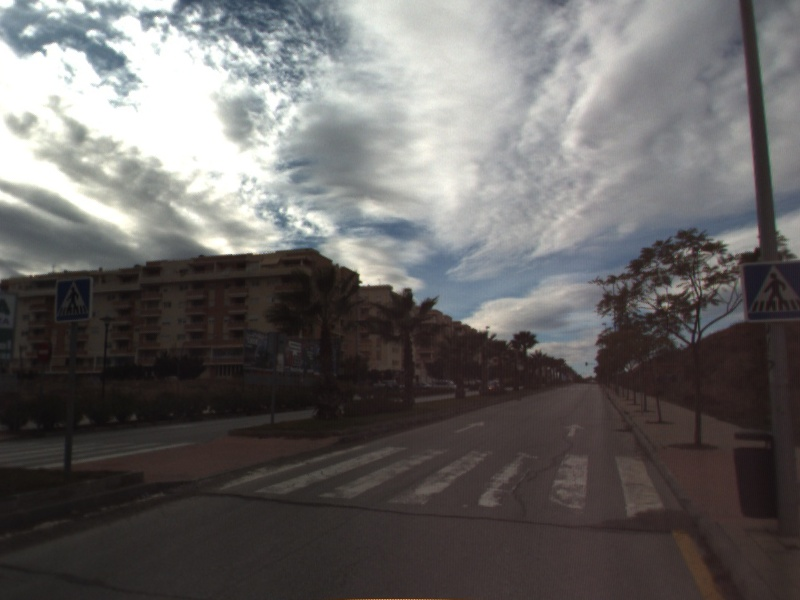STRAIGHT: (452, 419, 487, 434), (562, 421, 587, 438)
